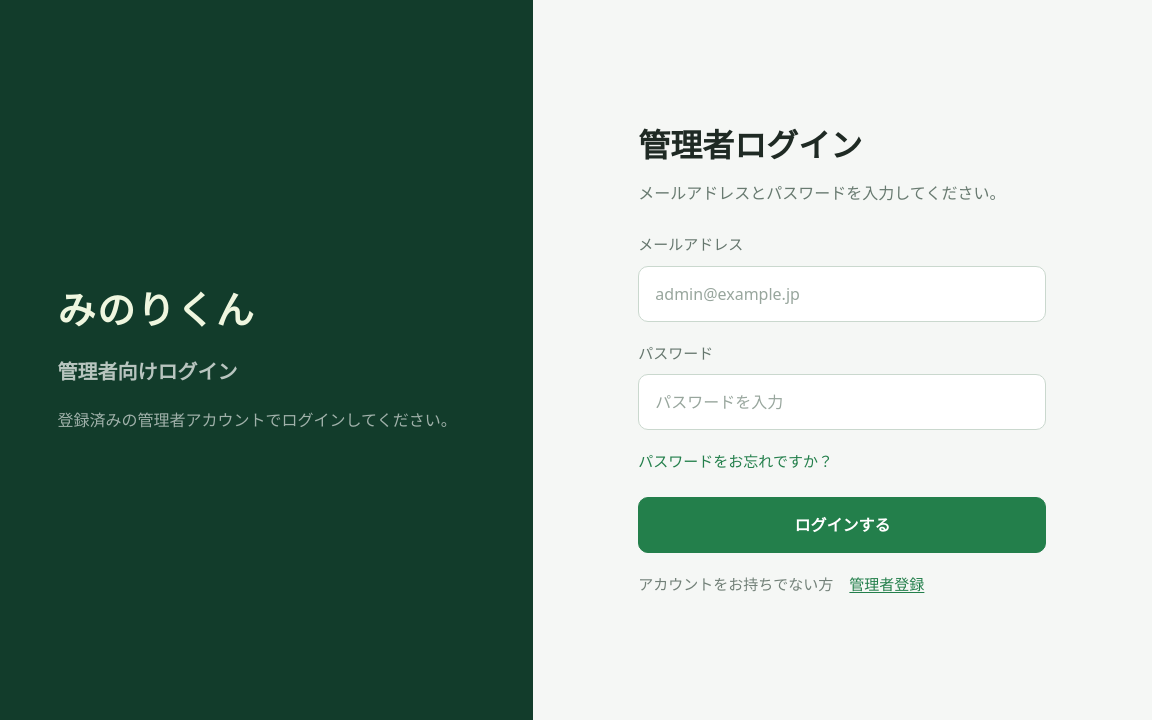
Test case: Admin Login › shows a neutral error and clears the password after authentication fails
This screenshot has width=1152, height=720.
In the field with id "admin-email": x=842, y=294 [638, 266, 1046, 322], type "admin@example.test"
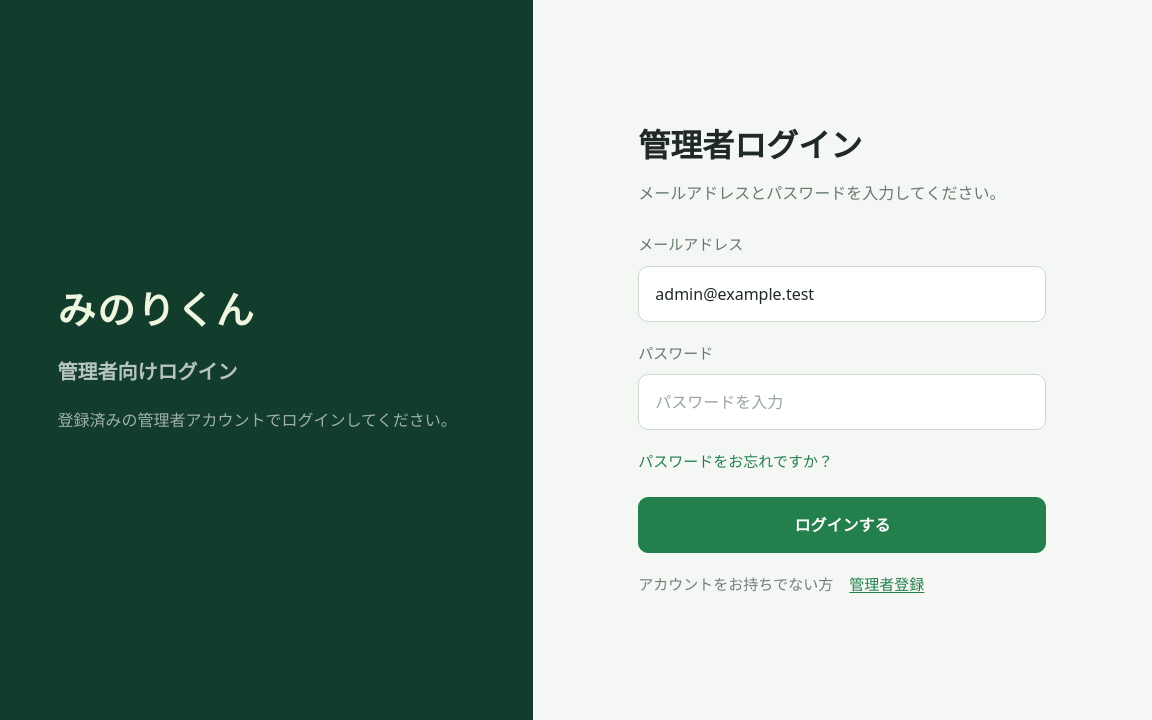
In the password field with id "admin-password": x=842, y=402 [638, 374, 1046, 430], type "wrong-password"
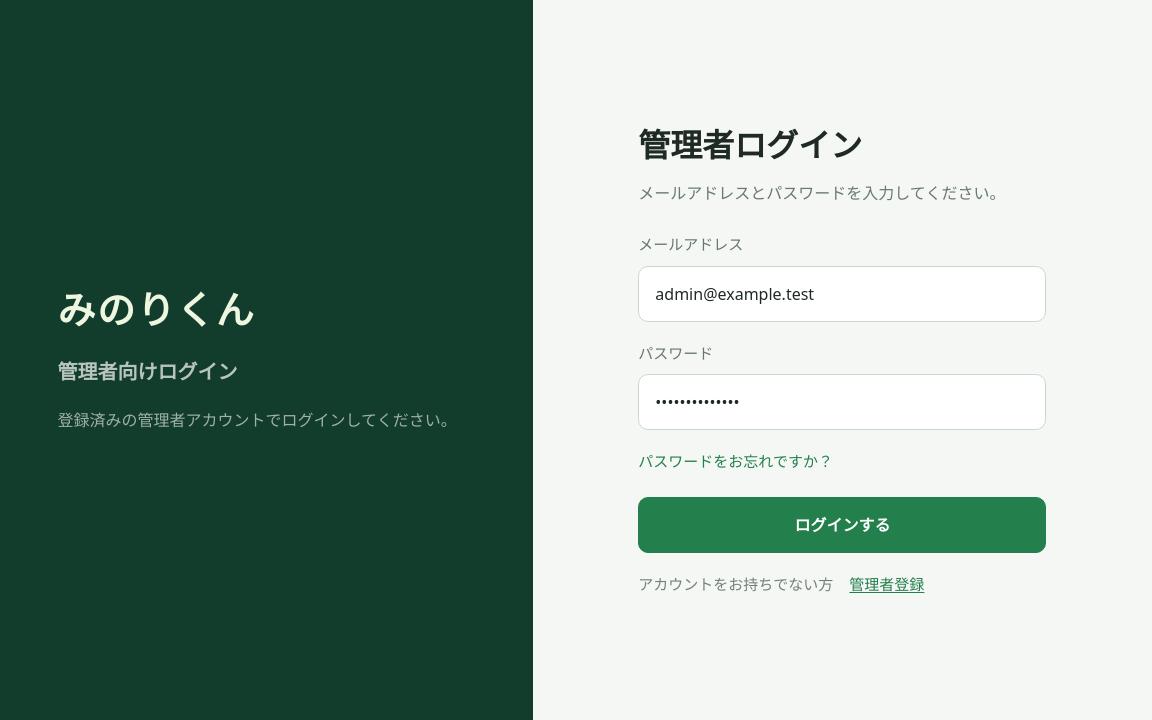
Submit the form, box [638, 125, 1046, 595]
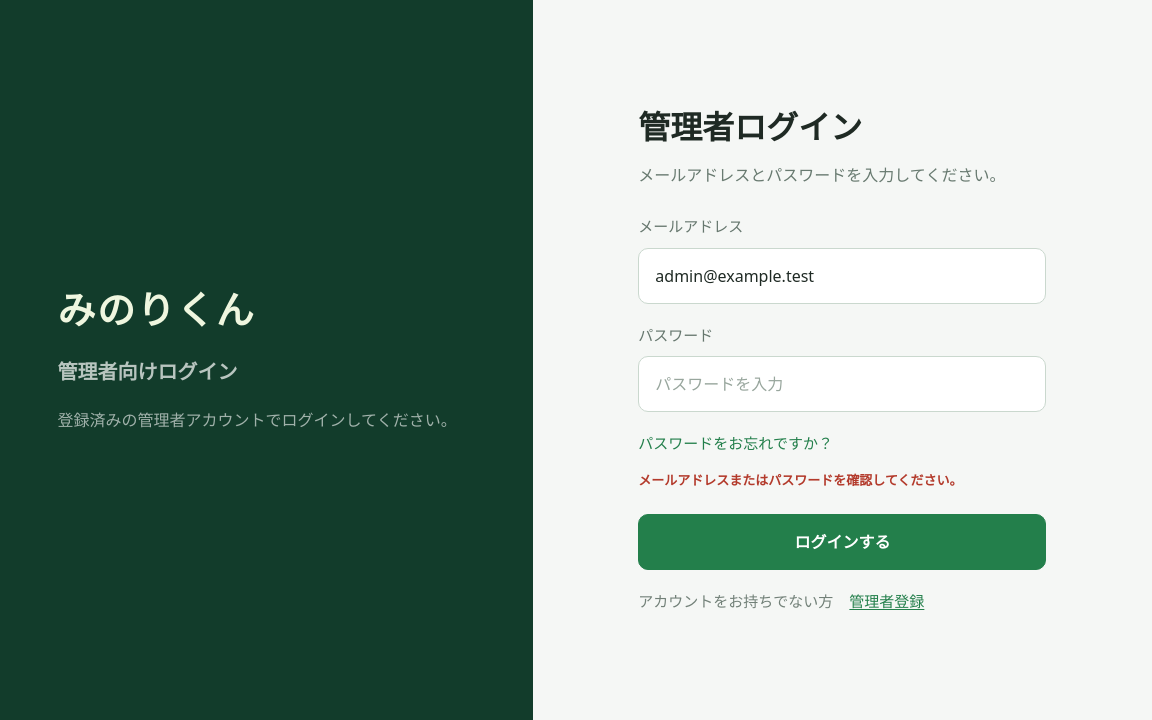
Now the message "メールアドレスまたはパスワードを確認してください。" is shown, box [638, 471, 962, 489]
Now the password field with id "admin-password" is empty, box [638, 356, 1046, 412]
